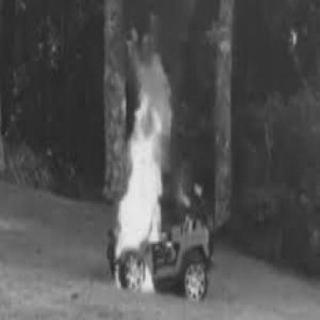other: (143, 239, 153, 267)
